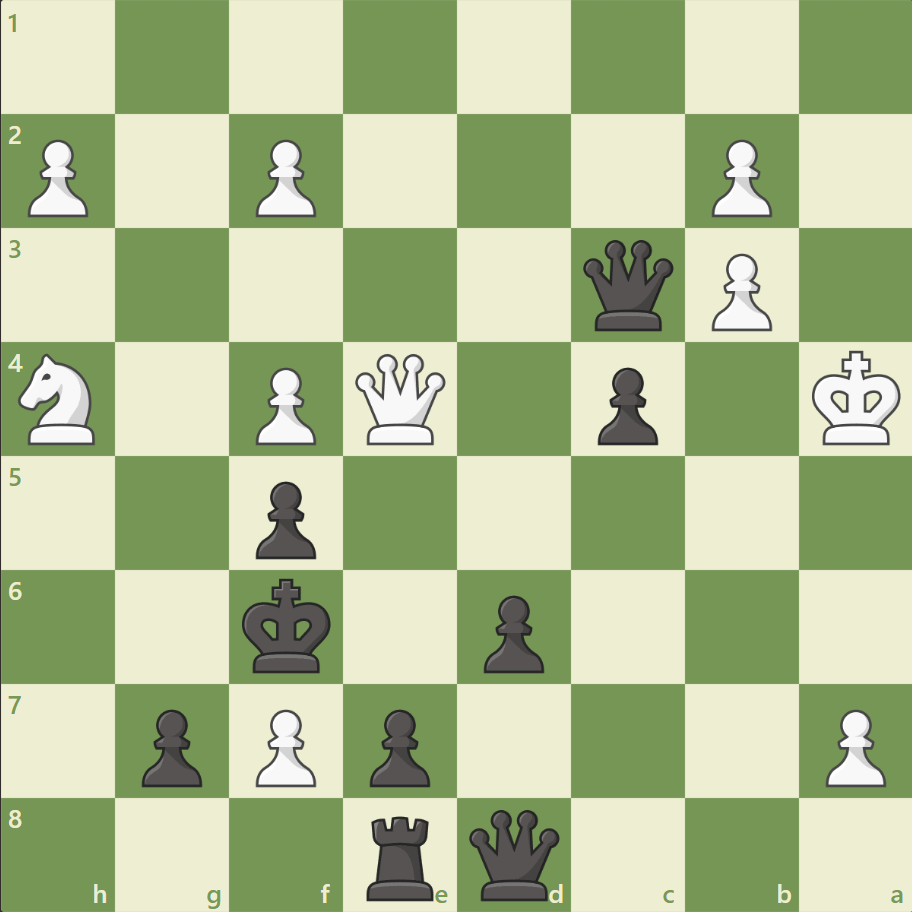K: (806, 344, 906, 452)
N: (11, 348, 108, 450)
P: (247, 700, 322, 791), (247, 359, 322, 450), (701, 246, 776, 337), (701, 132, 776, 223), (247, 132, 322, 223), (20, 132, 95, 223), (815, 700, 889, 791)
Q: (351, 349, 450, 449)
k: (238, 571, 338, 679)
p: (133, 700, 208, 791), (474, 586, 549, 677), (247, 473, 322, 564), (361, 700, 435, 791), (588, 359, 662, 450)
q: (464, 804, 563, 903), (578, 236, 677, 335)
r: (360, 806, 442, 904)
